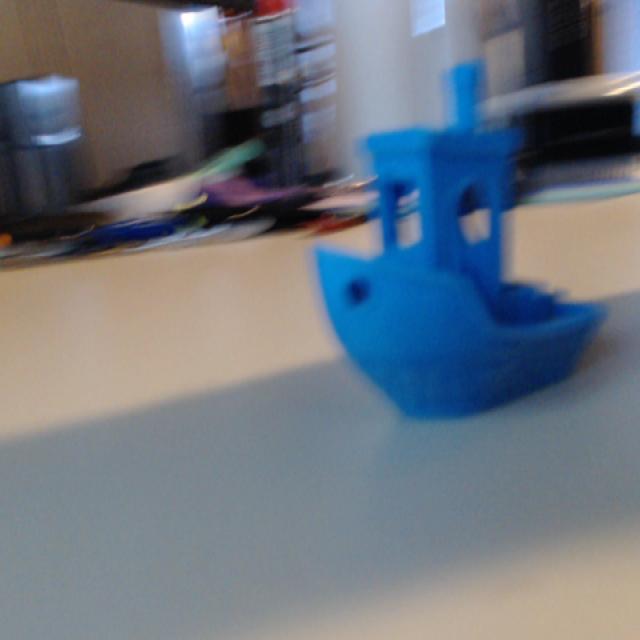benchy: (308, 57, 609, 423)
